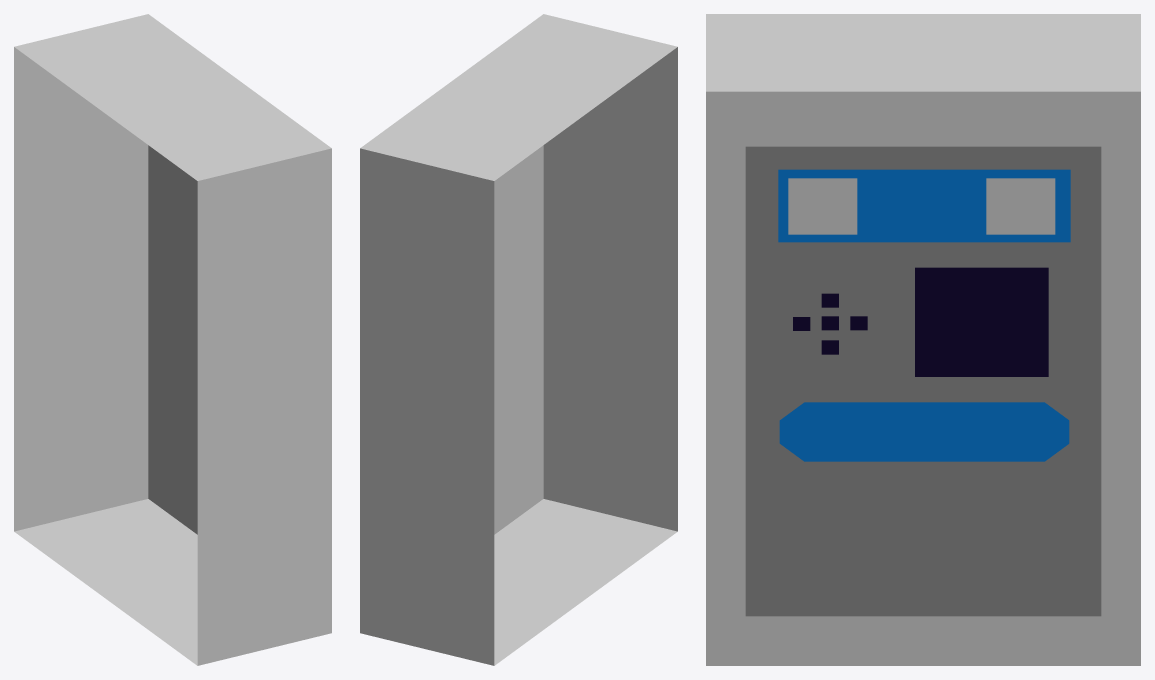
Rendered from fireStation.fbx.
The picture shows the model from 3 angles, left to right: view 1: azimuth 30°, elevation 25°; view 2: azimuth 150°, elevation 25°; view 3: azimuth 270°, elevation 25°; orthographic projection. The views are drawn at different scales.
Parts seen in each view (by area): view 1: fireStation; view 2: fireStation; view 3: fireStation.
Part boxes in pixels (<box>): fireStation: <box>14,14,331,665</box>; fireStation: <box>360,14,677,665</box>; fireStation: <box>706,14,1140,665</box>.
Bounding box in the file's own units: 4.41 × 14.28 × 9.8.
